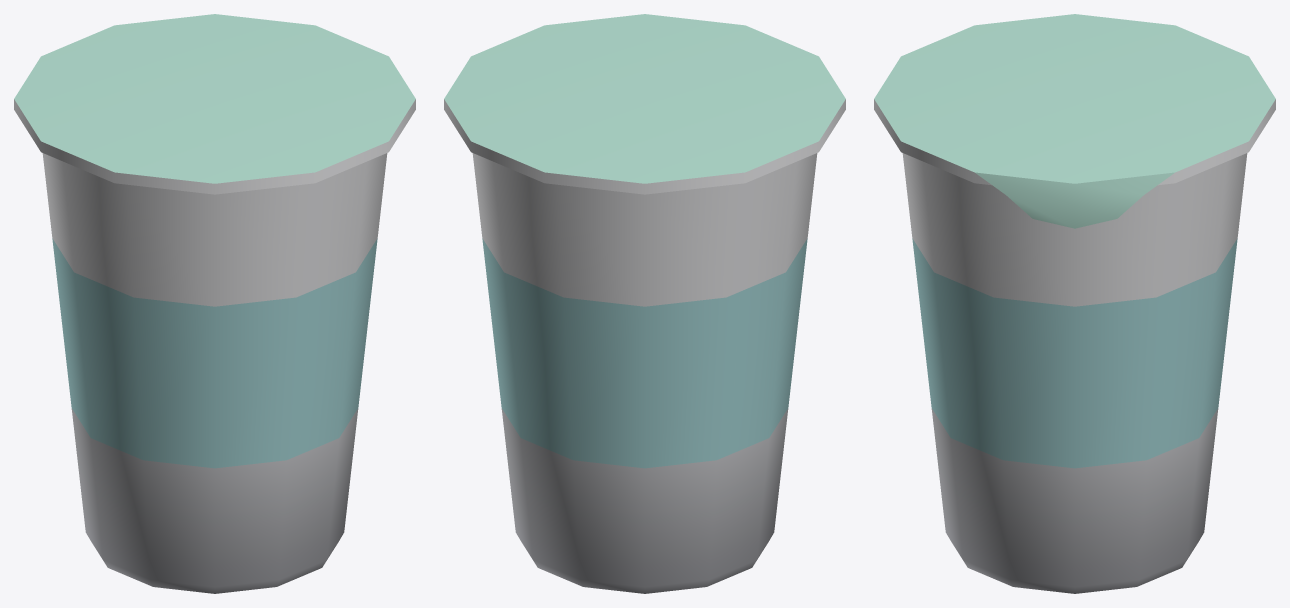
File: Yogurt_big_03.fbx
The picture shows the model from 3 angles, left to right: view 1: azimuth 30°, elevation 25°; view 2: azimuth 150°, elevation 25°; view 3: azimuth 270°, elevation 25°; orthographic projection.
Parts seen in each view (by area): view 1: Yogurt_big_03; view 2: Yogurt_big_03; view 3: Yogurt_big_03.
Part boxes in pixels (x1,y1,x2,y2): Yogurt_big_03: [14, 14, 415, 593]; Yogurt_big_03: [444, 14, 845, 593]; Yogurt_big_03: [874, 14, 1275, 593].
Bounding box in the file's own units: 109 × 107 × 132.
